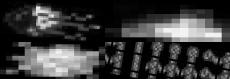eye: (0, 0, 105, 42)
ore: (105, 0, 230, 42)
rope: (0, 42, 105, 79)
